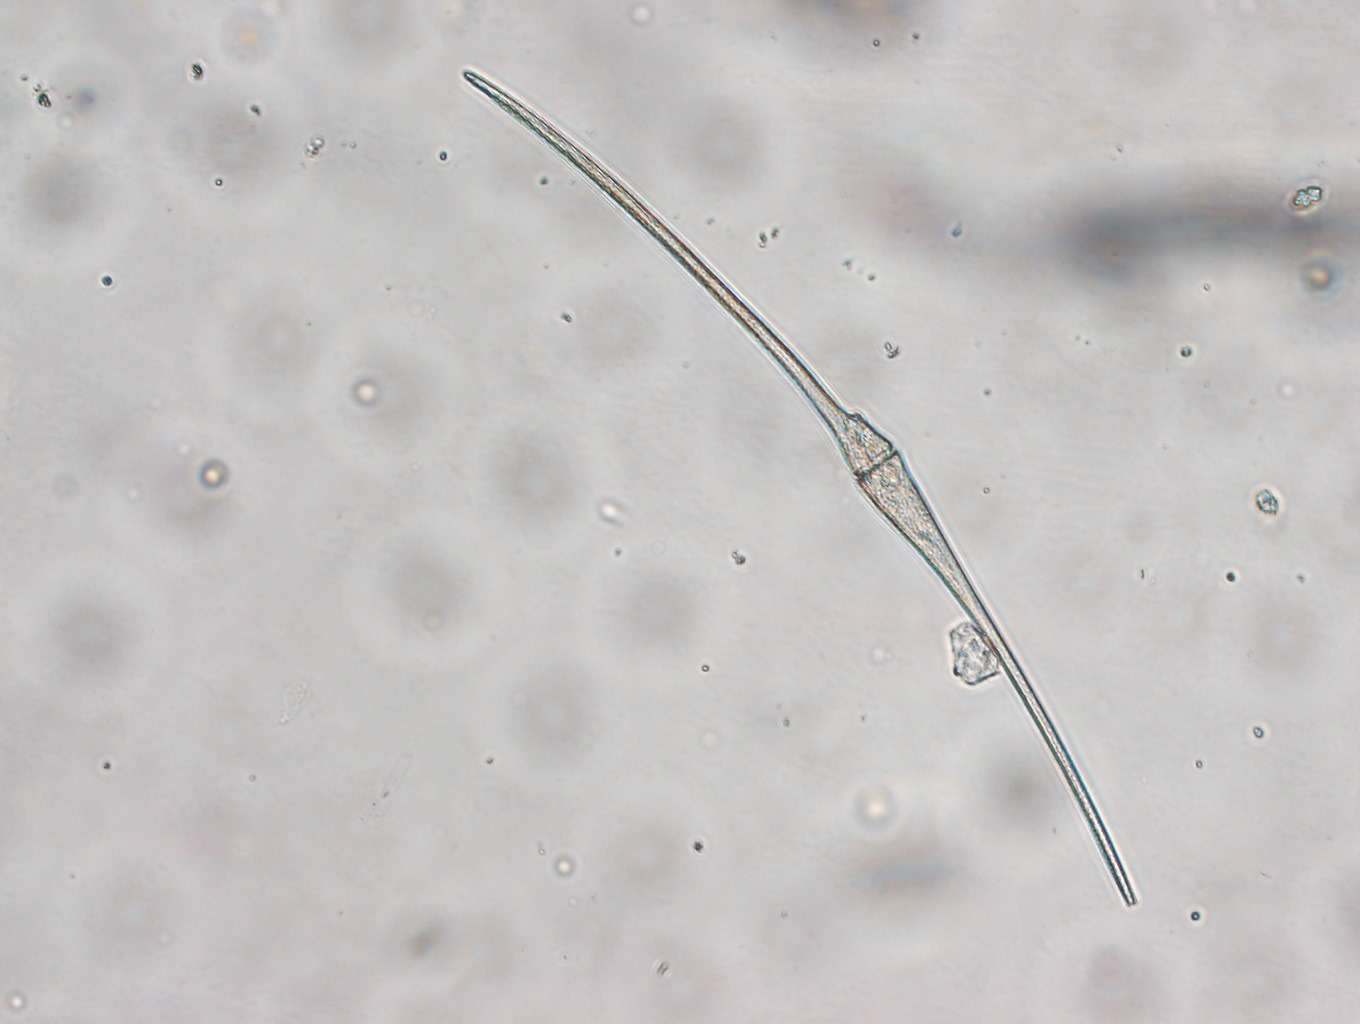ceratium fusus: (460, 70, 1139, 909)
